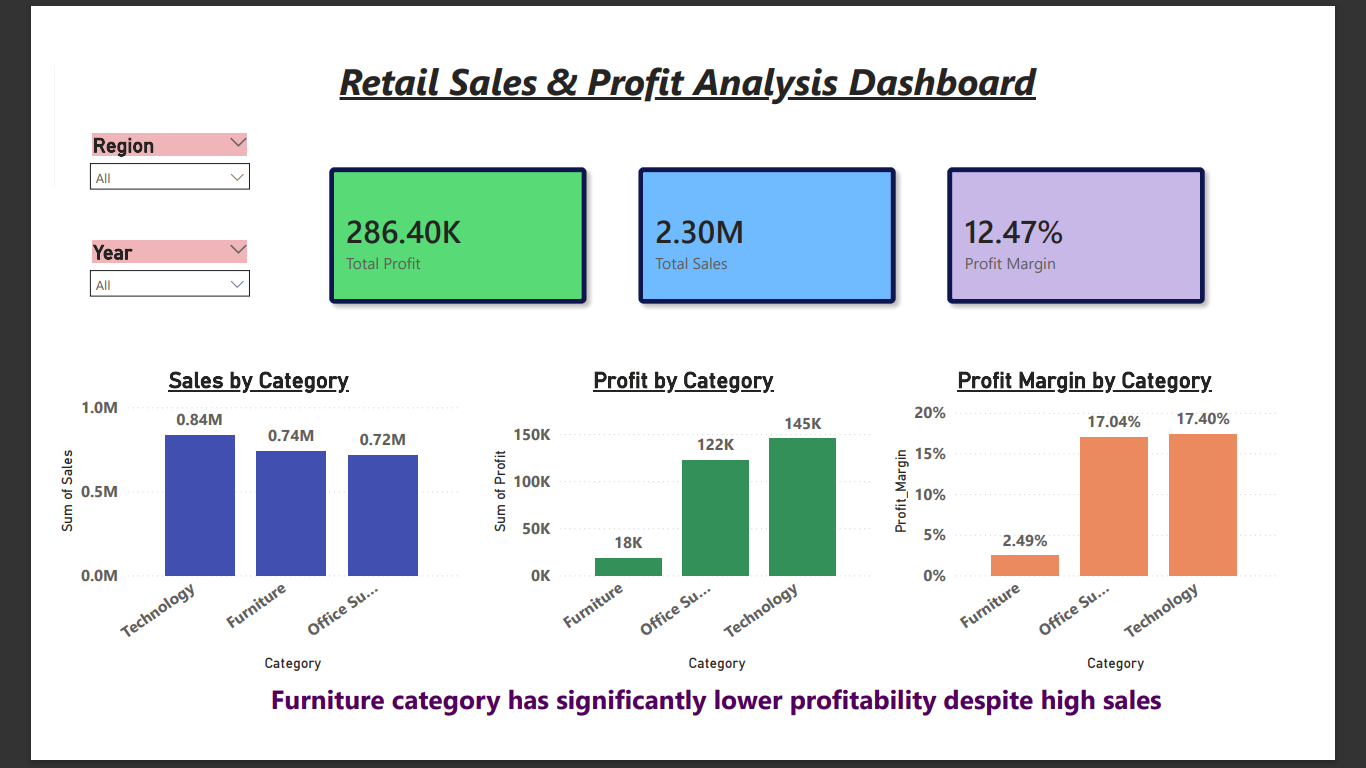

The page's visual inventory and layout, read from the dashboard file:
{"tool":"powerbi","page":{"name":"Overview","canvas":[1280,720],"ordinal":0},"visuals":[{"type":"cardVisual","fields":{"Data":["Sum(superstore.Profit)","Sum(superstore.Sales)","superstore.Profit_Margin"]},"box":[251.3,111.7,949.2,196.9],"z":0},{"type":"textbox","box":[285.1,22,778.8,89.6],"z":1000},{"type":"clusteredColumnChart","title":"Sales by Category","fields":{"Category":["superstore.Category"],"Y":["Sum(superstore.Sales)"]},"box":[0,343.8,415.8,314.4],"z":2000},{"type":"clusteredColumnChart","title":"Profit by Category","fields":{"Category":["superstore.Category"],"Y":["Sum(superstore.Profit)"]},"box":[440.8,343.8,399.7,314.4],"z":3000},{"type":"slicer","fields":{"Values":["superstore.Region"]},"box":[26.4,101.4,182.2,83.8],"z":4000},{"type":"clusteredColumnChart","title":"Profit Margin by Category","fields":{"Category":["superstore.Category"],"Y":["superstore.Profit_Margin"]},"box":[849.3,343.8,399.7,314.4],"z":5000},{"type":"textbox","box":[183.7,658.3,980.1,61.7],"z":6000},{"type":"slicer","fields":{"Values":["superstore.Year"]},"box":[26.4,210.1,182.2,83.8],"z":7000}]}

Visuals, with their boxes in screenshot pixels (x1, y1, x2, y2), scaled from the page's 1280x720 canvas onto the 1366x768 screenshot:
cardVisual - Sum(superstore.Profit) x Sum(superstore.Sales): (left=268, top=119, right=1281, bottom=329)
textbox: (left=304, top=23, right=1135, bottom=119)
"Sales by Category" clusteredColumnChart: (left=0, top=367, right=444, bottom=702)
"Profit by Category" clusteredColumnChart: (left=470, top=367, right=897, bottom=702)
slicer - superstore.Region: (left=28, top=108, right=223, bottom=198)
"Profit Margin by Category" clusteredColumnChart: (left=906, top=367, right=1333, bottom=702)
textbox: (left=196, top=702, right=1242, bottom=767)
slicer - superstore.Year: (left=28, top=224, right=223, bottom=313)
